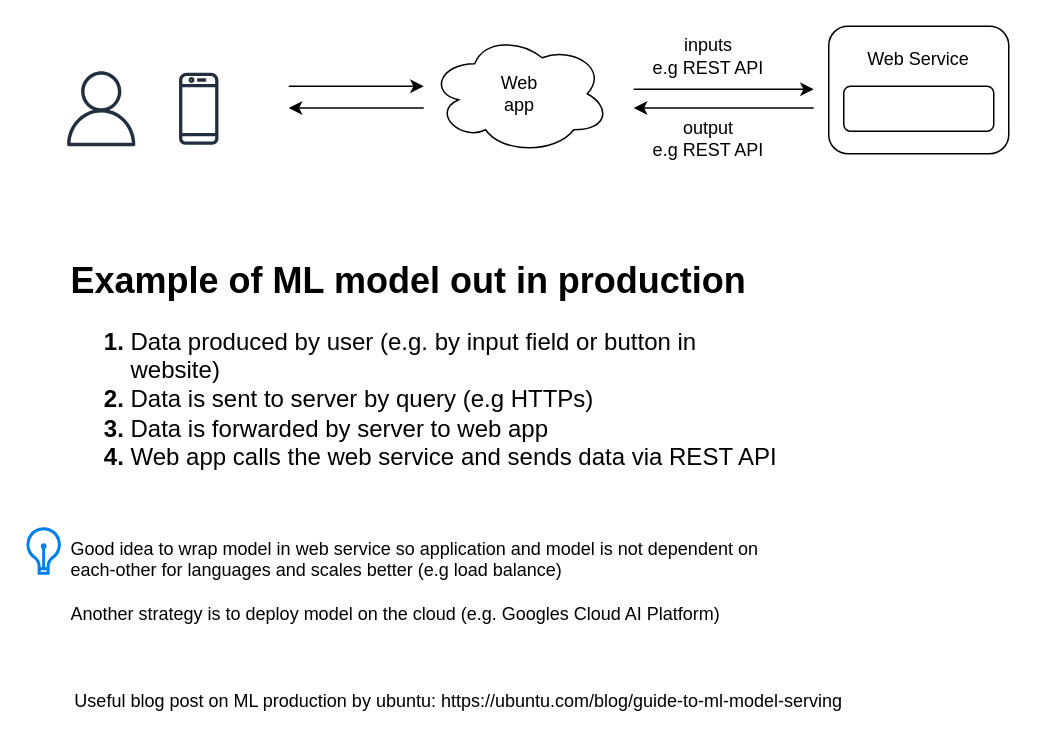
Image size: 1037x743. Some labels were removed from this diagram. The shapes that lost their labels are listed below. From the top down, each one's centre as x and y in pixels, then its label:
point 198,108: Mobile client
point 918,108: Model
